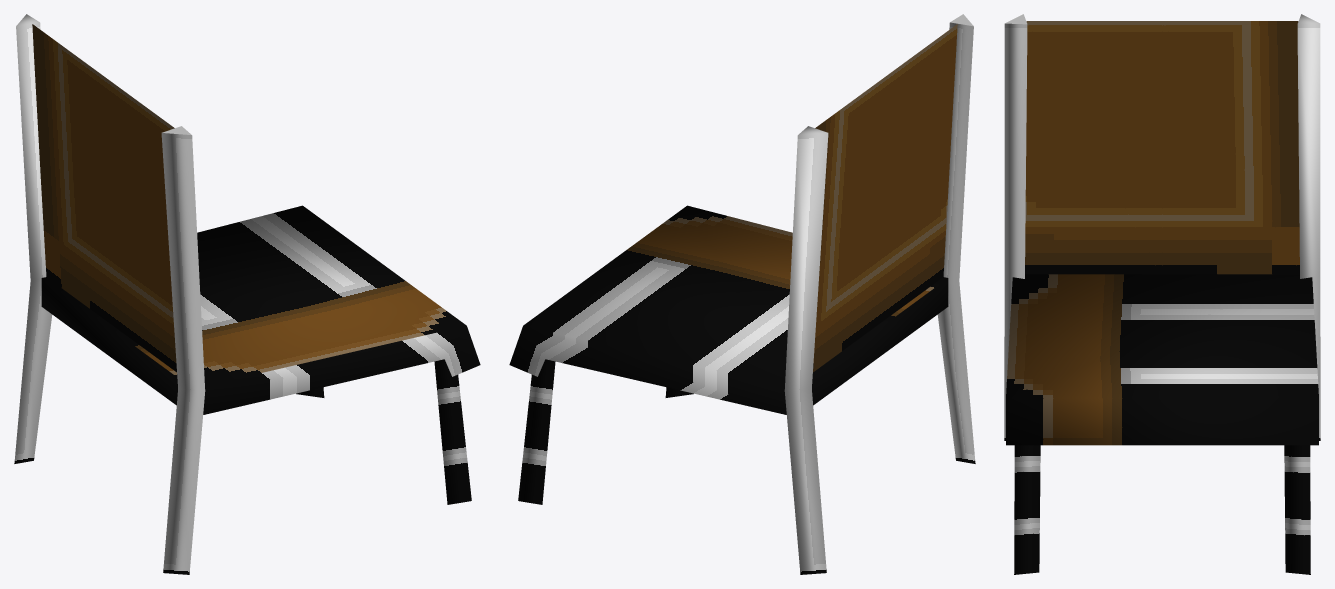
The picture shows the model from 3 angles, left to right: view 1: azimuth 30°, elevation 25°; view 2: azimuth 150°, elevation 25°; view 3: azimuth 270°, elevation 25°; orthographic projection. The views are drawn at different scales.
Visible parts, largest first — view 1: 3585kg_26_isu; view 2: 3585kg_26_isu; view 3: 3585kg_26_isu.
Boxes of the visible parts, x1,y1,x2,y2 form: 3585kg_26_isu: (14,14,480,574); 3585kg_26_isu: (509,14,975,574); 3585kg_26_isu: (1004,14,1320,574).
Bounding box in the file's own units: 0.7886 × 1.07 × 0.7314.
1 material, 1 textured.
